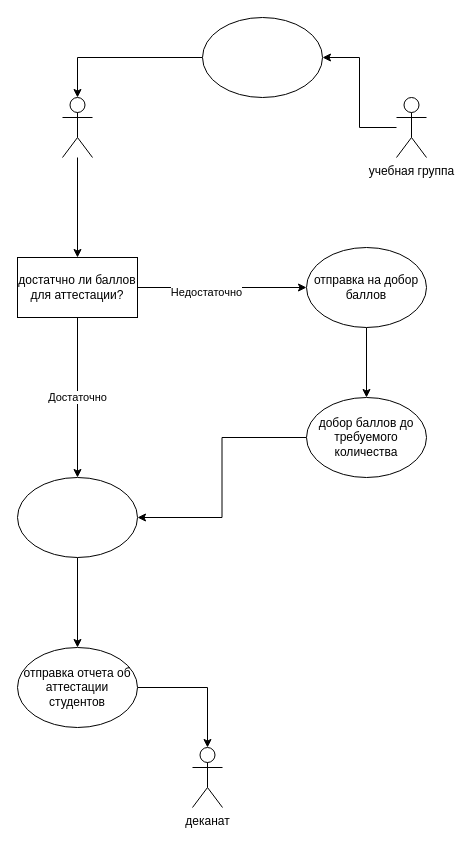
Image size: 471x846. Some labels were removed from this diagram. Here are the shapes that lost their labels. From the top down, the box of each, then its label:
(202, 16, 322, 98): просьба поставить аттестацию
(62, 96, 92, 158): преподаватель
(16, 476, 138, 558): Проставление аттестации
